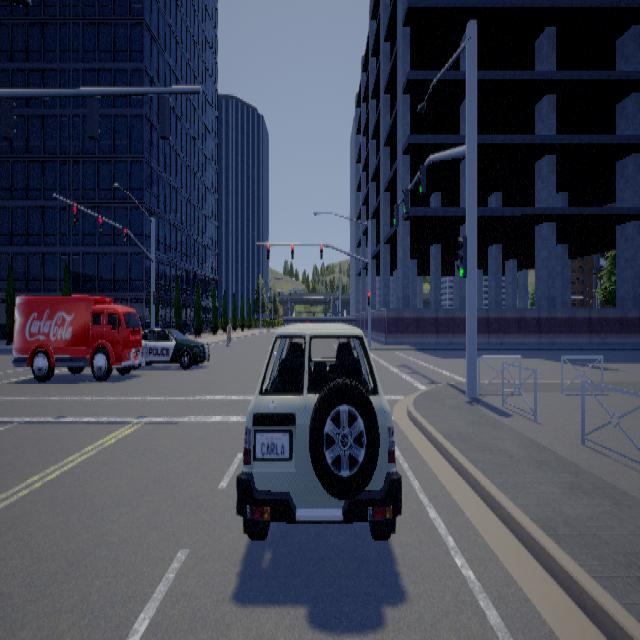green_light: (455, 234, 466, 276), (401, 187, 408, 212), (392, 202, 398, 226)
red_light: (69, 202, 77, 226), (95, 214, 102, 234), (120, 226, 126, 244), (152, 291, 156, 304), (266, 242, 269, 258), (291, 244, 294, 259), (368, 290, 370, 305), (320, 243, 322, 258)
vehicle: (235, 308, 401, 539), (10, 293, 143, 382), (128, 323, 210, 372)
